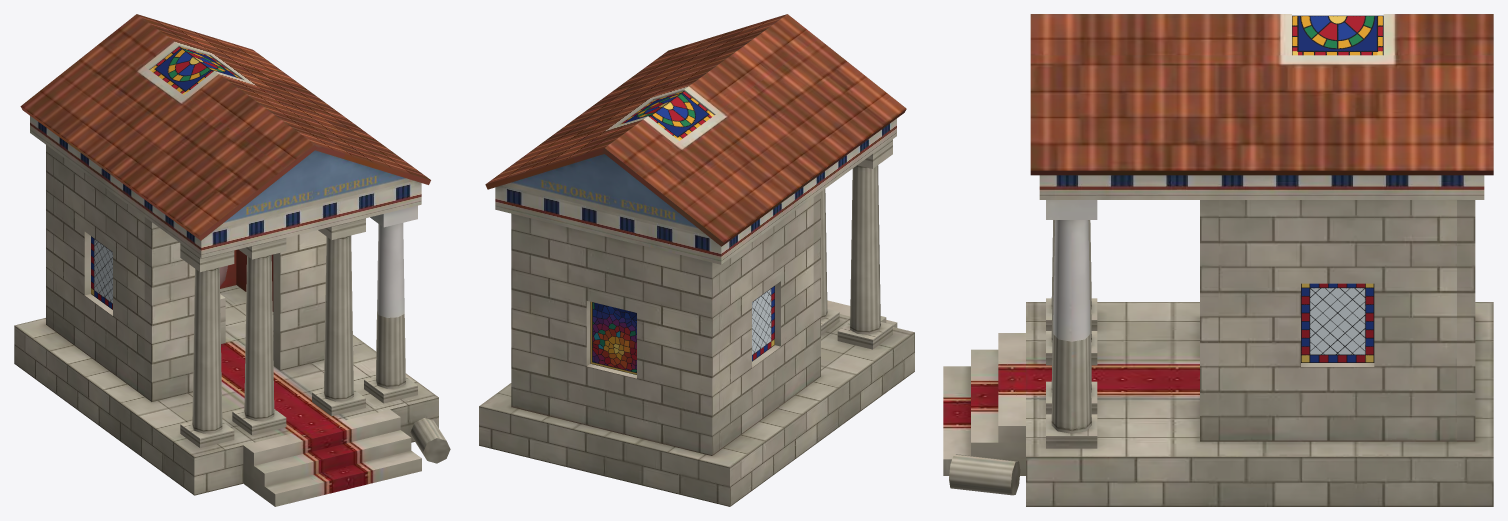
File: Tempietto.dae
3 renders of one model, left to right at view 1: azimuth 30°, elevation 25°; view 2: azimuth 150°, elevation 25°; view 3: azimuth 270°, elevation 25°, orthographic. The views are drawn at different scales.
Parts seen in each view (by area): view 1: Slope_Left, Block, Wall_Left, Wall_Front, Slope_Right, Entablature, Column_1, Column_2, Column_3, Pediment_Front, Step_1, Step_2 (+8 smaller); view 2: Wall_Back, Slope_Left, Block, Wall_Left, Slope_Right, Entablature, Column_1, Pediment_Back, Window_Back_Abstract, Skylight_Left, Wall_Front, Window_Left (+2 smaller); view 3: Slope_Right, Wall_Right, Block, Entablature, Window_Right, Column_4_Reconstructed, Column_4_Stump, Wall_Front, Wall_Back, Skylight_Right, Step_2, Step_3 (+5 smaller).
Boxes of the visible parts, x1=… form: Slope_Left: x1=20, y1=14, x2=316, y2=240; Block: x1=14, y1=285, x2=438, y2=495; Wall_Left: x1=53, y1=150, x2=144, y2=396; Wall_Front: x1=144, y1=217, x2=326, y2=401; Slope_Right: x1=137, y1=14, x2=430, y2=184; Entablature: x1=30, y1=116, x2=421, y2=258; Column_1: x1=180, y1=243, x2=234, y2=448; Column_2: x1=232, y1=238, x2=286, y2=435; Column_3: x1=312, y1=218, x2=365, y2=415; Pediment_Front: x1=216, y1=150, x2=413, y2=228; Step_1: x1=243, y1=450, x2=421, y2=506; Step_2: x1=243, y1=430, x2=411, y2=486; Wall_Back: x1=511, y1=213, x2=719, y2=455; Slope_Left: x1=602, y1=14, x2=906, y2=246; Block: x1=479, y1=314, x2=914, y2=506; Wall_Left: x1=719, y1=197, x2=813, y2=450; Slope_Right: x1=485, y1=14, x2=786, y2=189; Entablature: x1=495, y1=118, x2=896, y2=264; Column_1: x1=837, y1=139, x2=892, y2=349; Pediment_Back: x1=503, y1=154, x2=705, y2=234; Window_Back_Abstract: x1=590, y1=301, x2=636, y2=374; Skylight_Left: x1=649, y1=91, x2=714, y2=140; Wall_Front: x1=813, y1=192, x2=820, y2=381; Window_Left: x1=752, y1=285, x2=774, y2=361; Slope_Right: x1=1030, y1=14, x2=1493, y2=175; Wall_Right: x1=1218, y1=200, x2=1456, y2=441; Block: x1=1026, y1=302, x2=1493, y2=506; Entablature: x1=1039, y1=175, x2=1484, y2=199; Window_Right: x1=1301, y1=283, x2=1374, y2=362; Column_4_Reconstructed: x1=1046, y1=200, x2=1097, y2=341; Column_4_Stump: x1=1046, y1=334, x2=1097, y2=448; Wall_Front: x1=1200, y1=200, x2=1218, y2=441; Wall_Back: x1=1457, y1=200, x2=1475, y2=441; Skylight_Right: x1=1292, y1=15, x2=1383, y2=55; Step_2: x1=971, y1=349, x2=1025, y2=459; Step_3: x1=998, y1=333, x2=1025, y2=442.
Size of the model in its own units: 4 by 5 by 6.
Materials: 3 (2 with a texture image).
